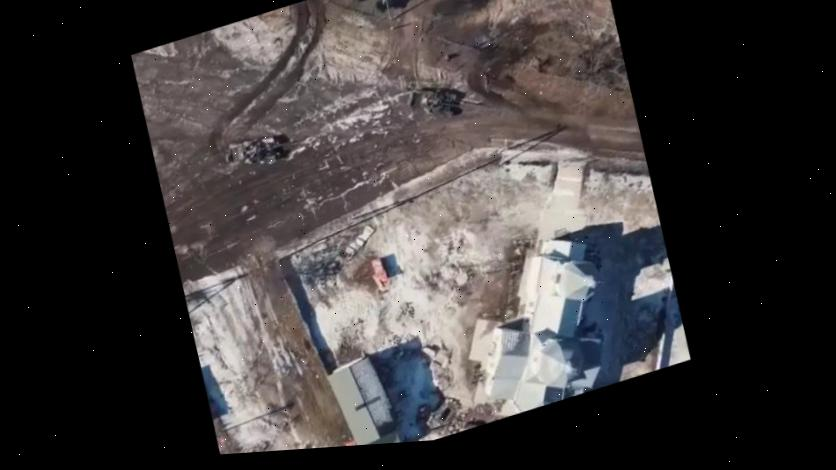tank: (224, 120, 303, 176), (404, 74, 472, 130)
